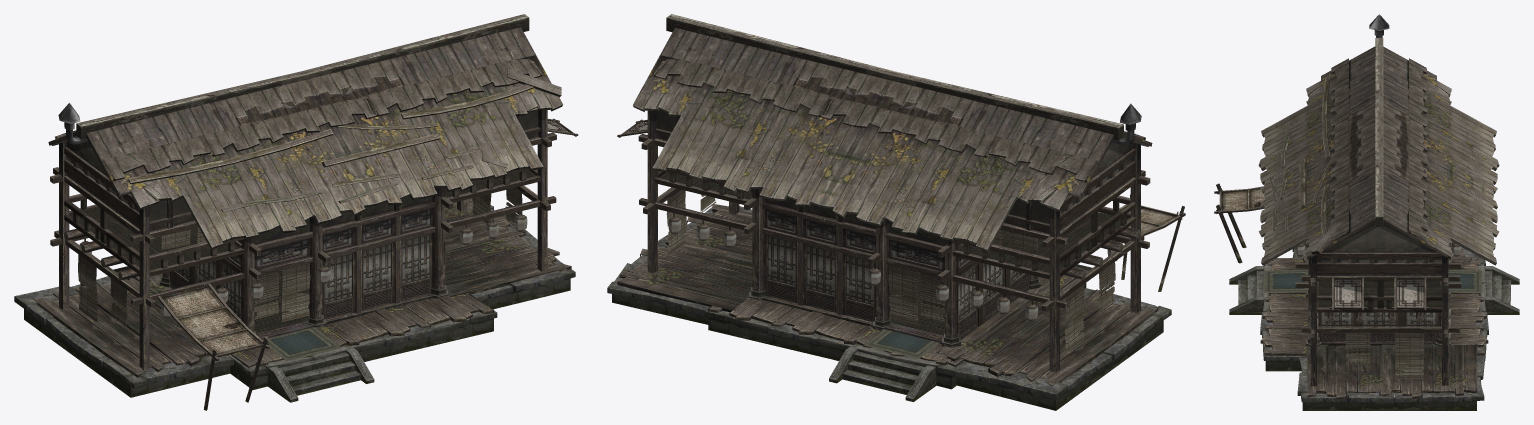
The model's file is yaopu_001.fbx.
3 renders of one model, left to right at view 1: azimuth 30°, elevation 25°; view 2: azimuth 150°, elevation 25°; view 3: azimuth 270°, elevation 25°, orthographic. The views are drawn at different scales.
Parts seen in each view (by area): view 1: yaopu_001; view 2: yaopu_001; view 3: yaopu_001.
Part boxes in pixels (x1=…): yaopu_001: x1=14, y1=14, x2=578, y2=410; yaopu_001: x1=607, y1=14, x2=1185, y2=410; yaopu_001: x1=1214, y1=14, x2=1519, y2=410.
Bounding box in the file's own units: 20.54 × 10.6 × 13.58.
